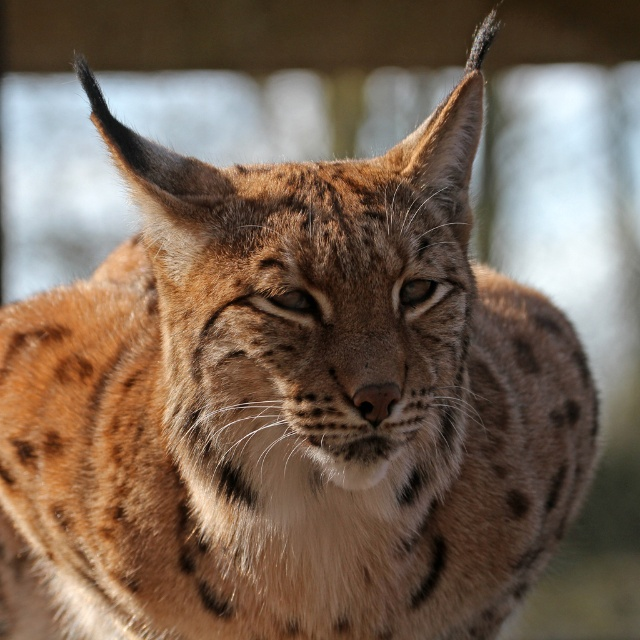Lynx: (0, 0, 604, 640)
